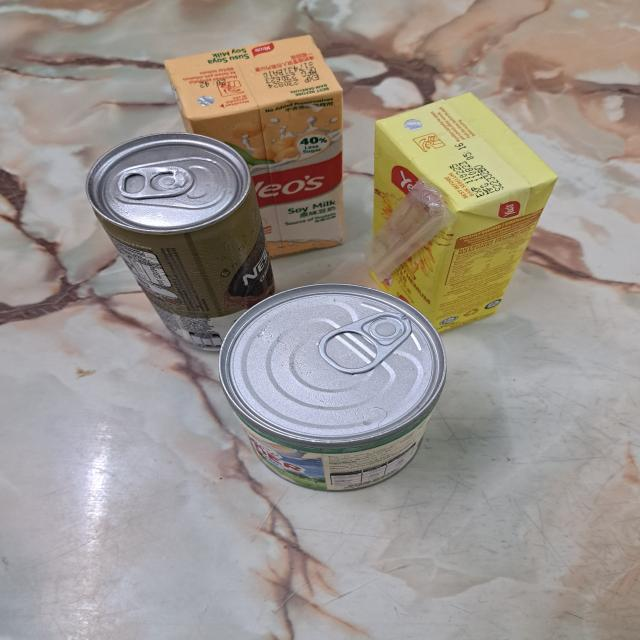can: (219, 284, 449, 489), (88, 131, 276, 348)
drink carton: (372, 92, 558, 330), (165, 34, 346, 262)
pop tab: (318, 311, 413, 376), (117, 164, 193, 200)
